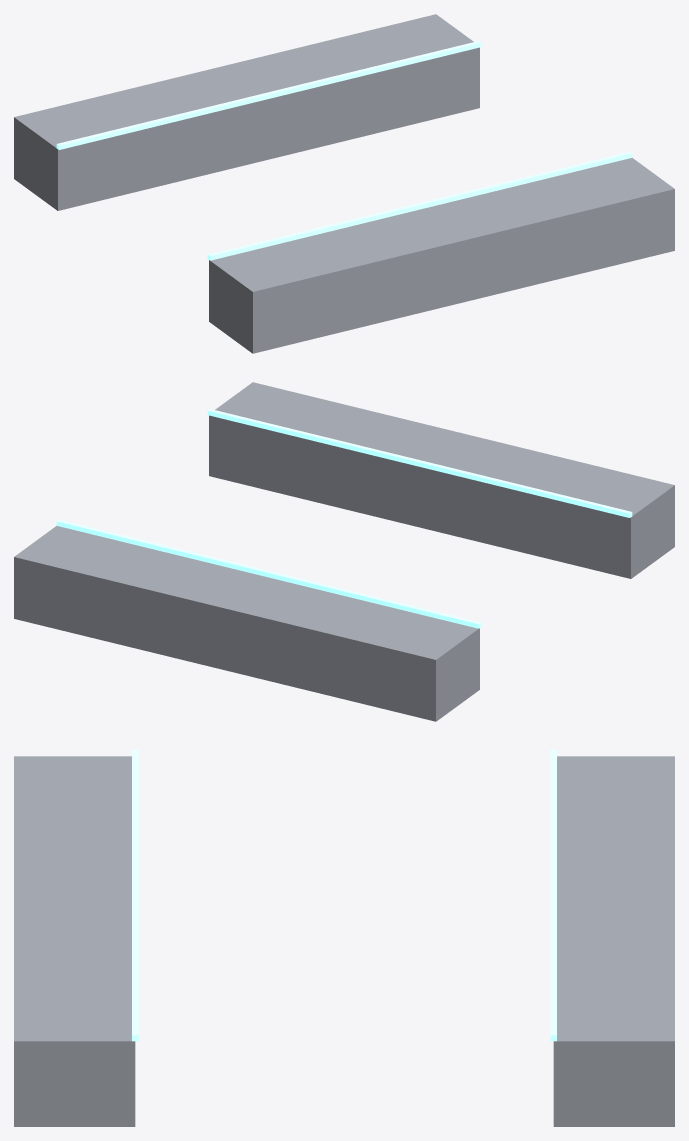
File: station_platform_2030.glb
3 views of the same model, one above another, from view 1: azimuth 30°, elevation 25°; view 2: azimuth 150°, elevation 25°; view 3: azimuth 270°, elevation 25° (orthographic). The views are drawn at different scales.
Parts seen in each view (by area): view 1: PlatformR, PlatformL, EdgeGlowL, EdgeGlowR; view 2: PlatformL, PlatformR, EdgeGlowL, EdgeGlowR; view 3: PlatformL, PlatformR, EdgeGlowL, EdgeGlowR.
Part boxes in pixels (x1,y1,x2,y2): PlatformR: (209,158,674,353); PlatformL: (14,14,479,210); EdgeGlowL: (56,41,481,149); EdgeGlowR: (207,151,632,260); PlatformL: (14,526,479,721); PlatformR: (209,382,674,578); EdgeGlowL: (56,519,481,628); EdgeGlowR: (207,409,632,517); PlatformL: (553,756,674,1126); PlatformR: (14,756,135,1126); EdgeGlowL: (550,750,556,1041); EdgeGlowR: (132,750,138,1041).
Size of the model in its own units: 1 by 0.15 by 0.98.
